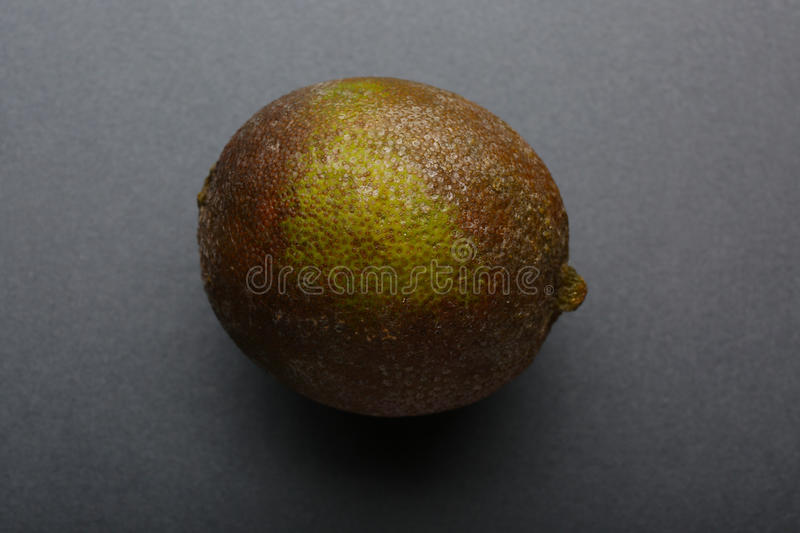damaged_lime: (202, 78, 563, 409)
